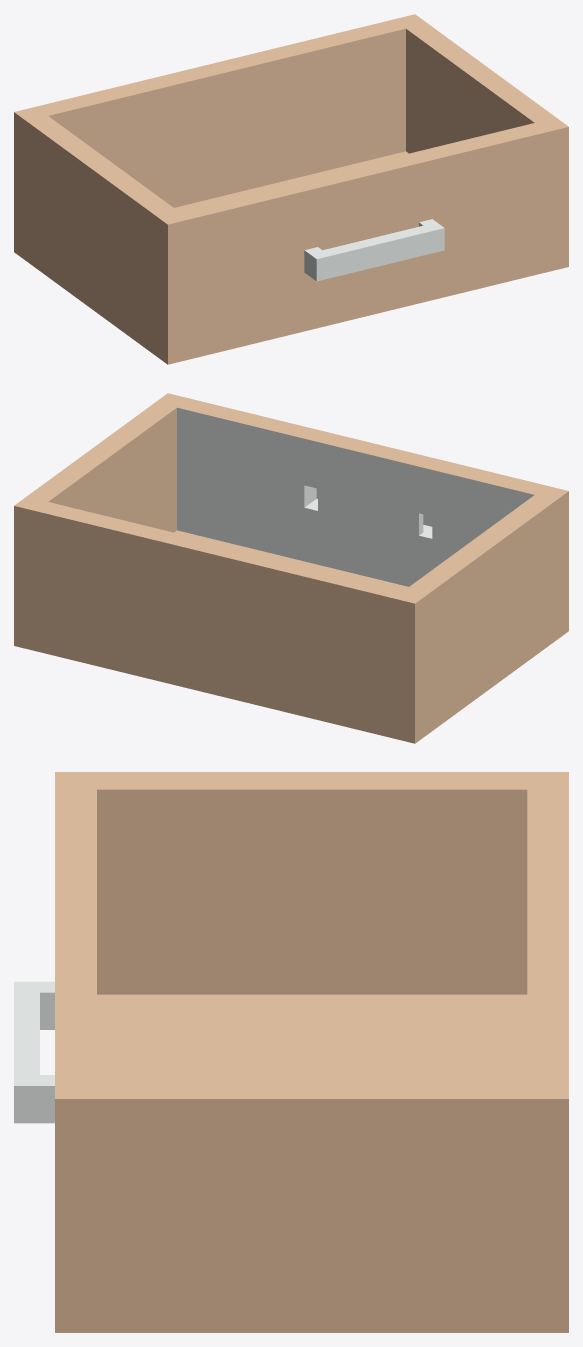
Rendered from Drawer_Bathroom.glb.
The picture shows the model from 3 angles, top to bottom: view 1: azimuth 30°, elevation 25°; view 2: azimuth 150°, elevation 25°; view 3: azimuth 270°, elevation 25°; orthographic projection. The views are drawn at different scales.
Parts seen in each view (by area): view 1: Drawer_Bathroom; view 2: Drawer_Bathroom; view 3: Drawer_Bathroom.
Part boxes in pixels (box(x1,y1,x2,y2)): Drawer_Bathroom: box(14, 14, 568, 364); Drawer_Bathroom: box(14, 393, 568, 743); Drawer_Bathroom: box(14, 772, 568, 1332).
Size of the model in its own units: 0.3763 by 0.1256 by 0.27.
